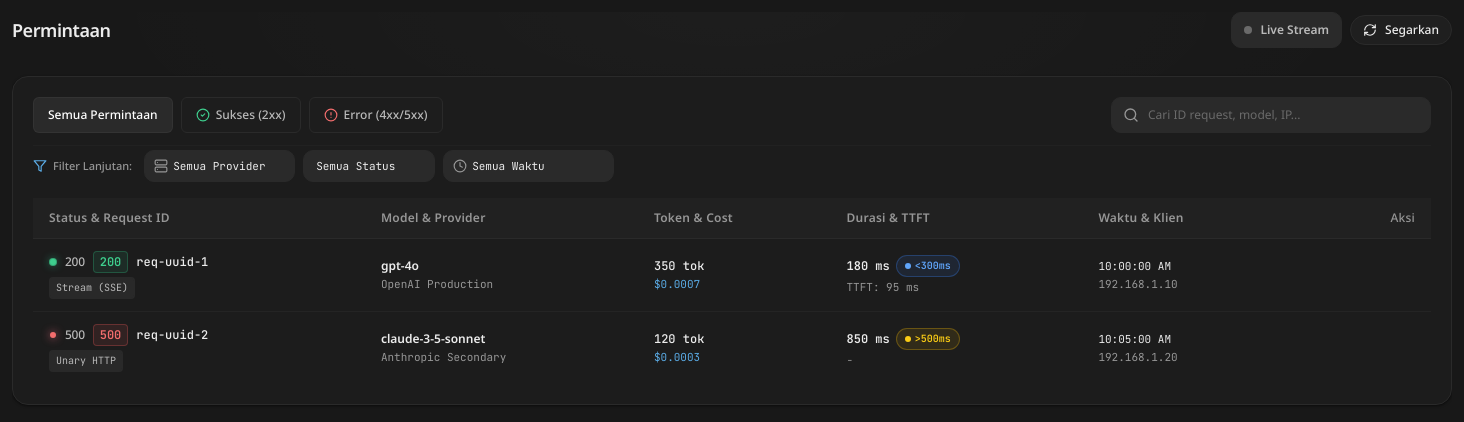
Test: Requests Page — Modular Architecture & Integration Spec › mendukung toggle tombol Live Feed Polling
This screenshot has width=1464, height=422.
Toggle On
Click the button "Live Stream" at (1287, 30), box [1231,12,1342,48]
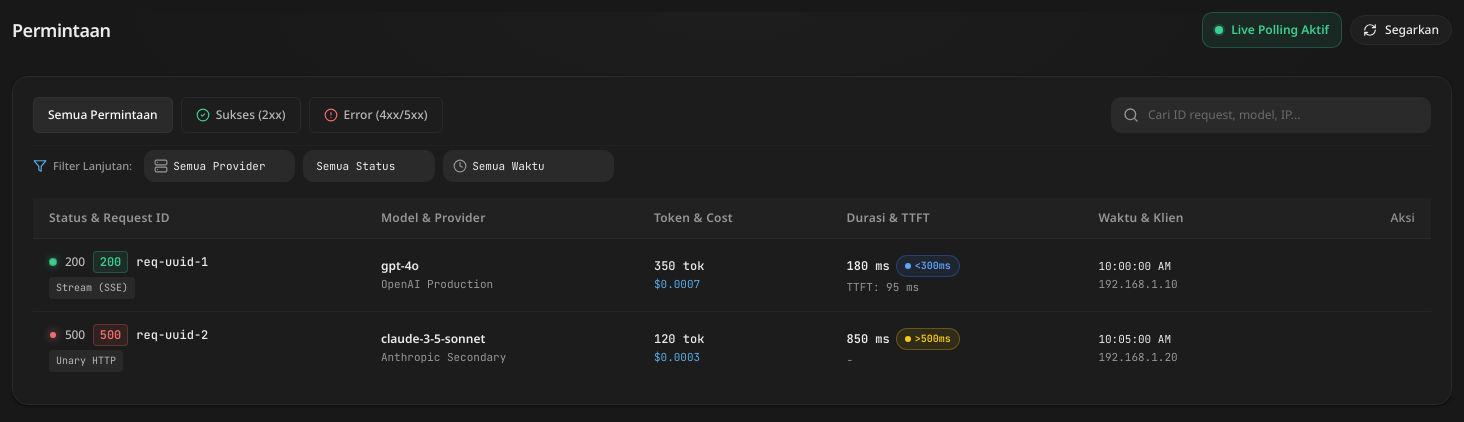
Expected: the text "Live Polling Aktif" is shown, [1231,22,1329,38]
Toggle Off
Click the button "Live Polling Aktif" at (1272, 30), box [1202,12,1342,48]
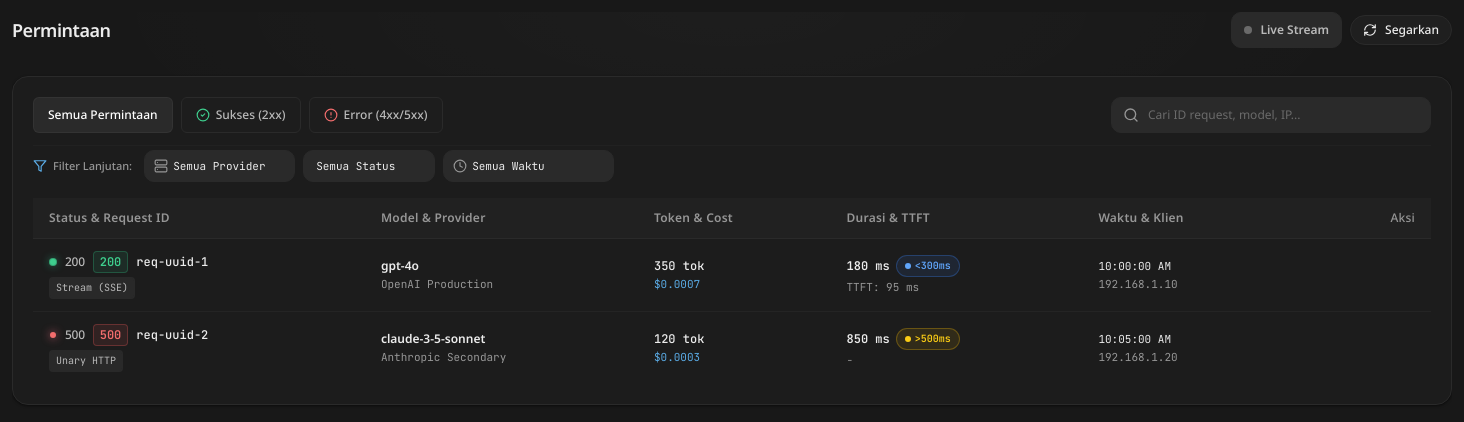
Expected: the text "Live Stream" is shown, [1260,22,1329,38]
